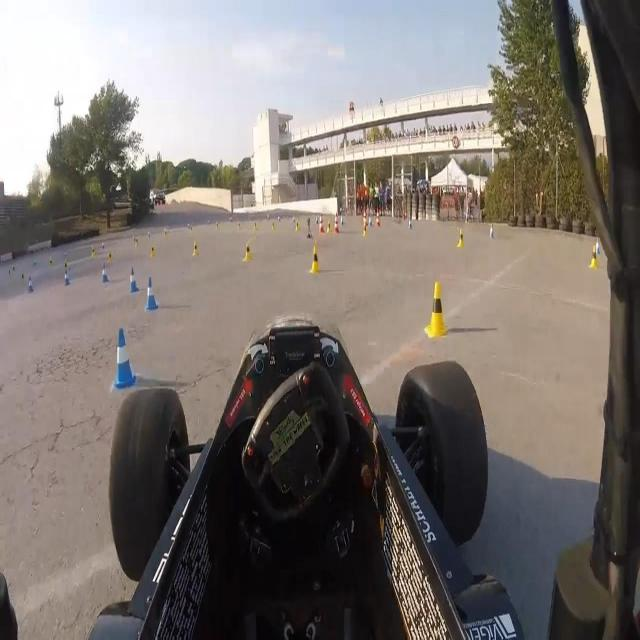blue_cone: (111, 327, 139, 393), (144, 276, 160, 312), (129, 267, 139, 295), (101, 262, 110, 284), (28, 274, 34, 294), (64, 270, 71, 286)
large_orange_cone: (332, 212, 340, 235), (318, 215, 326, 235)
yellow_cone: (424, 279, 450, 340), (309, 243, 321, 274), (588, 244, 600, 270), (243, 241, 253, 262), (456, 228, 466, 248), (192, 239, 199, 257)
